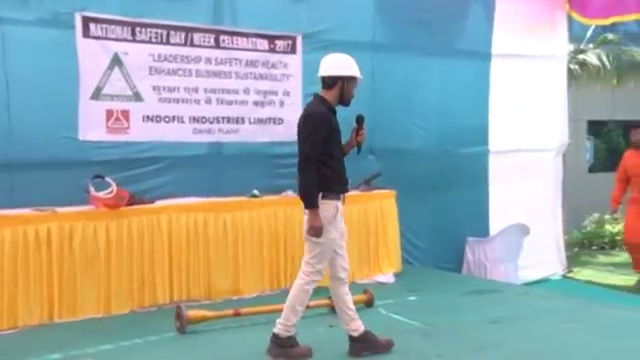helmet: (314, 51, 364, 78)
helmet_off: (625, 121, 640, 149)
helmet_on: (313, 53, 364, 110)
person: (268, 51, 395, 360), (610, 119, 640, 277)
